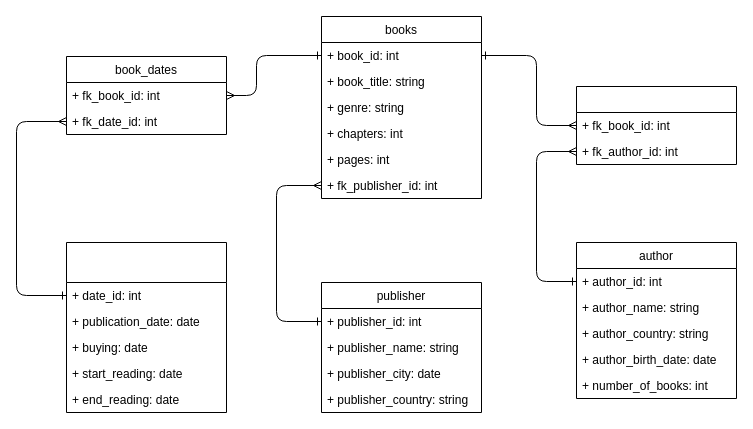
Some shapes in this 753 by 429 pixel diagram are drawn without their labels. The box of each missing label's shape, as (x1, y1, x2, y2) in pixels:
book_author: (576, 86, 736, 164)
dates: (66, 242, 226, 412)
